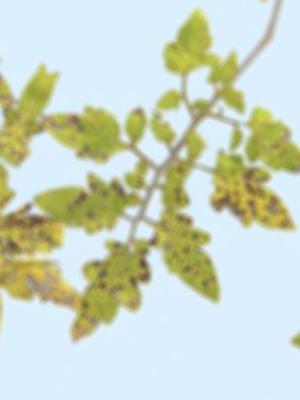Tomato Septoria leaf spot: (44, 217, 178, 379), (19, 65, 166, 204), (0, 208, 113, 379), (17, 139, 150, 271), (133, 197, 260, 310), (189, 143, 300, 255), (144, 2, 240, 104), (227, 95, 300, 202), (0, 191, 77, 287)
